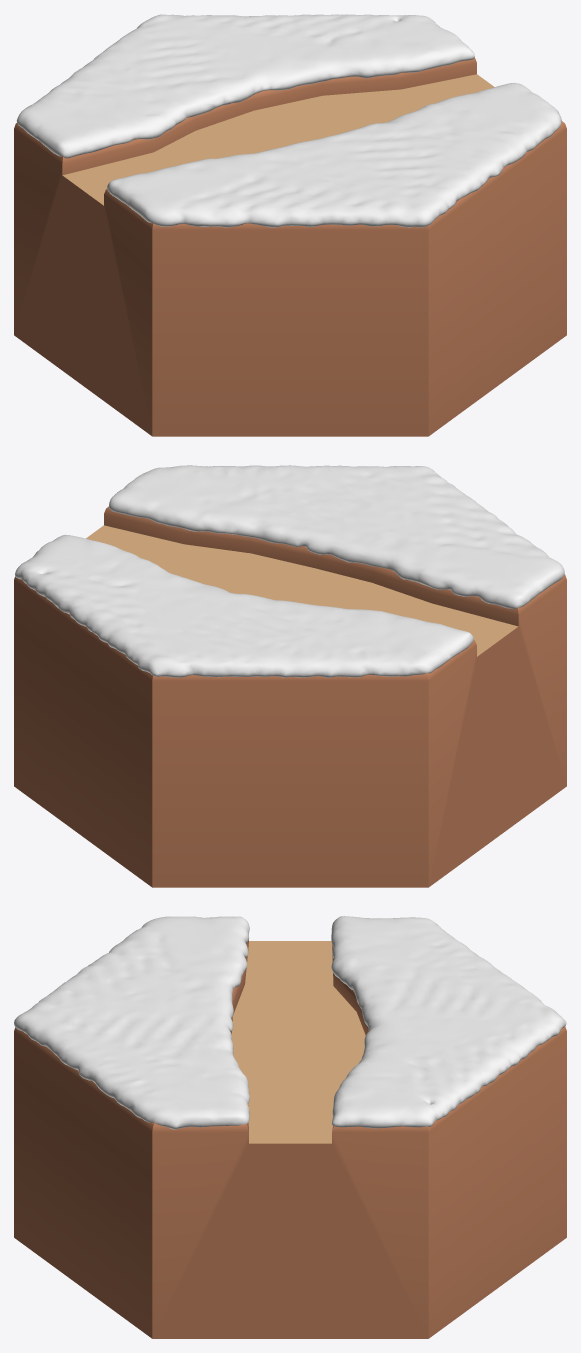
The model's file is hex_rock_roadB.fbx.
The picture shows the model from 3 angles, top to bottom: view 1: azimuth 30°, elevation 25°; view 2: azimuth 150°, elevation 25°; view 3: azimuth 270°, elevation 25°; orthographic projection.
Parts seen in each view (by area): view 1: hex_rock_roadB.001, SnowBall.001, hex_rock_roadB; view 2: hex_rock_roadB.001, SnowBall.001, hex_rock_roadB; view 3: hex_rock_roadB.001, SnowBall.001, hex_rock_roadB.
Part boxes in pixels (x1,y1,x2,y2): hex_rock_roadB.001: (14, 57, 566, 436); SnowBall.001: (16, 14, 561, 227); hex_rock_roadB: (62, 74, 494, 205); hex_rock_roadB.001: (14, 506, 566, 887); SnowBall.001: (15, 465, 564, 677); hex_rock_roadB: (86, 525, 518, 656); hex_rock_roadB.001: (14, 939, 566, 1338); SnowBall.001: (14, 916, 566, 1129); hex_rock_roadB: (232, 941, 365, 1143).
Bounding box in the file's own units: 202 × 103 × 231.
